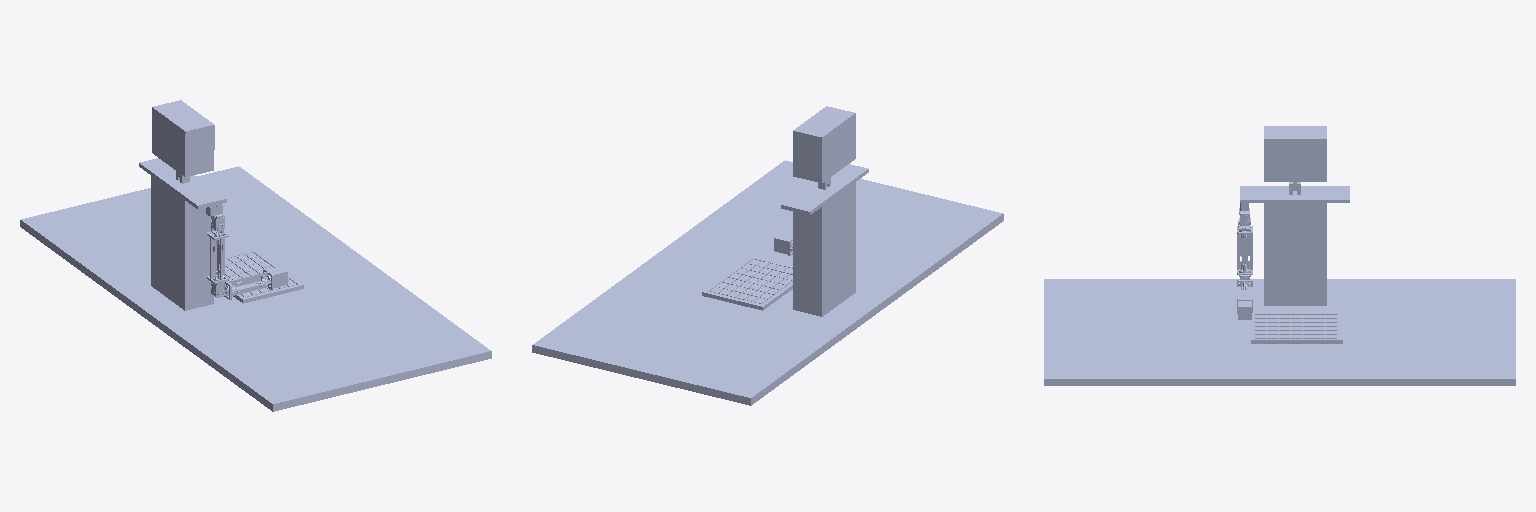
URDF robot description (bexter_combined_urdf):
<?xml version="1.0" encoding="utf-8" ?>
<!-- This URDF was automatically created by SolidWorks to URDF Exporter! Originally created by [author] ([email redacted]) 
     Commit Version: 1.6.0-4-g7f85cfe  Build Version: 1.6.7995.38578
     For more information, please see http://wiki.ros.org/sw_urdf_exporter -->
<robot name="bexter_combined_urdf">
    <link name="base_link">
        <inertial>
            <origin xyz="0.16494 -0.035285 0.069089" rpy="0 0 0" />
            <mass value="41.55" />
            <inertia ixx="5.8669" ixy="4.4082E-09" ixz="-2.3416E-05" iyy="1.5501" iyz="-1.8866E-07" izz="7.1963" />
        </inertial>
        <visual>
            <origin xyz="0 0 0" rpy="0 0 0" />
            <geometry>
                <mesh filename="package://bexter_combined_urdf/meshes/base_link.STL" />
            </geometry>
            <material name="">
                <color rgba="0.79216 0.81961 0.93333 1" />
            </material>
        </visual>
        <collision>
            <origin xyz="0 0 0" rpy="0 0 0" />
            <geometry>
                <mesh filename="package://bexter_combined_urdf/meshes/base_link_collisional.STL" />
            </geometry>
        </collision>
    </link>
    <link name="link_0">
        <inertial>
            <origin xyz="-1.0459E-05 -0.00048941 -0.02765" rpy="0 0 0" />
            <mass value="0.045956" />
            <inertia ixx="1.1423E-05" ixy="5.2331E-09" ixz="4.4082E-09" iyy="1.0126E-05" iyz="-2.555E-07" izz="6.9187E-06" />
        </inertial>
        <visual>
            <origin xyz="0 0 0" rpy="0 0 0" />
            <geometry>
                <mesh filename="package://bexter_combined_urdf/meshes/link_0.STL" />
            </geometry>
            <material name="">
                <color rgba="0.79216 0.81961 0.93333 1" />
            </material>
        </visual>
        <collision>
            <origin xyz="0 0 0" rpy="0 0 0" />
            <geometry>
                <mesh filename="package://bexter_combined_urdf/meshes/link_0_collisional.STL" />
            </geometry>
        </collision>
    </link>
    <joint name="joint_1" type="continuous">
        <origin xyz="0.02685 -0.16355 0.3323" rpy="0 0 0" />
        <parent link="base_link" />
        <child link="link_0" />
        <axis xyz="0 0 1" />
        <limit lower="0" upper="0" effort="1.4" velocity="0.9" />
    </joint>
    <link name="link_1">
        <inertial>
            <origin xyz="-2.3314E-05 -8.5183E-05 -0.1378" rpy="0 0 0" />
            <mass value="0.13469" />
            <inertia ixx="9.9571E-05" ixy="5.2331E-09" ixz="4.4082E-09" iyy="9.7681E-05" iyz="-2.555E-07" izz="3.0079E-05" />
        </inertial>
        <visual>
            <origin xyz="0 0 0" rpy="0 0 0" />
            <geometry>
                <mesh filename="package://bexter_combined_urdf/meshes/link_1.STL" />
            </geometry>
            <material name="">
                <color rgba="0.79216 0.81961 0.93333 1" />
            </material>
        </visual>
        <collision>
            <origin xyz="0 0 0" rpy="0 0 0" />
            <geometry>
                <mesh filename="package://bexter_combined_urdf/meshes/link_1_collisional.STL" />
            </geometry>
        </collision>
    </link>
    <joint name="joint_2" type="continuous">
        <origin xyz="0 0 -0.0405" rpy="0 0 0" />
        <parent link="link_0" />
        <child link="link_1" />
        <axis xyz="0 1 0" />
        <limit lower="0" upper="0" effort="1.4" velocity="0.9" />
    </joint>
    <link name="link_2">
        <inertial>
            <origin xyz="0.10141 2.0575E-06 2.9972E-05" rpy="0 0 0" />
            <mass value="0.088738" />
            <inertia ixx="2.316E-05" ixy="4.0902E-18" ixz="3.3819E-14" iyy="8.7554E-05" iyz="-5.6601E-21" izz="8.8148E-05" />
        </inertial>
        <visual>
            <origin xyz="0 0 0" rpy="0 0 0" />
            <geometry>
                <mesh filename="package://bexter_combined_urdf/meshes/link_2.STL" />
            </geometry>
            <material name="">
                <color rgba="0.79216 0.81961 0.93333 1" />
            </material>
        </visual>
        <collision>
            <origin xyz="0 0 0" rpy="0 0 0" />
            <geometry>
                <mesh filename="package://bexter_combined_urdf/meshes/link_2_collisional.STL" />
            </geometry>
        </collision>
    </link>
    <joint name="joint_3" type="continuous">
        <origin xyz="0 6.2E-05 -0.2209" rpy="0 0 0" />
        <parent link="link_1" />
        <child link="link_2" />
        <axis xyz="0 1 0" />
        <limit lower="0" upper="0" effort="1.4" velocity="0.9" />
    </joint>
    <link name="end_effector">
        <inertial>
            <origin xyz="-0.0254 -0.022225 0.022225" rpy="0 0 0" />
            <mass value="0.10037" />
            <inertia ixx="3.3052E-05" ixy="3.3447E-19" ixz="6.8462E-21" iyy="3.8111E-05" iyz="2.1636E-20" izz="3.8111E-05" />
        </inertial>
        <visual>
            <origin xyz="0 0 0" rpy="0 0 0" />
            <geometry>
                <mesh filename="package://bexter_combined_urdf/meshes/end_effector.STL" />
            </geometry>
            <material name="">
                <color rgba="0.79216 0.81961 0.93333 1" />
            </material>
        </visual>
        <collision>
            <origin xyz="0 0 0" rpy="0 0 0" />
            <geometry>
                <mesh filename="package://bexter_combined_urdf/meshes/end_effector_collisional.STL" />
            </geometry>
        </collision>
    </link>
    <joint name="end_effector_joint" type="fixed">
        <origin xyz="0.2312 0.022225 -0.022194" rpy="0 0 0" />
        <parent link="link_2" />
        <child link="end_effector" />
        <axis xyz="0 0 0" />
    </joint>
    <transmission name="trans_joint_1">
        <type>transmission_interface/SimpleTransmission</type>
        <joint name="joint_1">
            <hardwareInterface>hardware_interface/PositionJointInterface</hardwareInterface>
        </joint>
        <actuator name="joint_1_motor">
            <hardwareInterface>hardware_interface/PositionJointInterface</hardwareInterface>
            <mechanicalReduction>1</mechanicalReduction>
        </actuator>
    </transmission>
    <transmission name="trans_joint_2">
        <type>transmission_interface/SimpleTransmission</type>
        <joint name="joint_2">
            <hardwareInterface>hardware_interface/PositionJointInterface</hardwareInterface>
        </joint>
        <actuator name="joint_2_motor">
            <hardwareInterface>hardware_interface/PositionJointInterface</hardwareInterface>
            <mechanicalReduction>1</mechanicalReduction>
        </actuator>
    </transmission>
    <transmission name="trans_joint_3">
        <type>transmission_interface/SimpleTransmission</type>
        <joint name="joint_3">
            <hardwareInterface>hardware_interface/PositionJointInterface</hardwareInterface>
        </joint>
        <actuator name="joint_3_motor">
            <hardwareInterface>hardware_interface/PositionJointInterface</hardwareInterface>
            <mechanicalReduction>1</mechanicalReduction>
        </actuator>
    </transmission>
    <gazebo>
        <plugin name="gazebo_ros_control" filename="libgazebo_ros_control.so">
            <robotNamespace>/</robotNamespace>
        </plugin>
    </gazebo>
</robot>

--- Facts derived from the render (not from the file) ---
3 views of the same robot in one strip: view 1: azimuth 30°, elevation 25°; view 2: azimuth 150°, elevation 25°; view 3: azimuth 270°, elevation 25° (orthographic).
Robot: bexter_combined_urdf — 5 links, 4 joints (3 continuous, 1 fixed); root link base_link; default pose: all joints at 0.
Links seen in each view (by area): view 1: base_link, link_1, link_2; view 2: base_link; view 3: base_link, link_1.
Link boxes in pixels (x1,y1,x2,y2): base_link: (20,100,491,411); link_1: (207,227,228,297); link_2: (220,269,273,299); base_link: (532,106,1003,405); base_link: (1044,126,1515,385); link_1: (1237,221,1252,283).
Bounding box of the posed robot: 0.762 × 1.52 × 0.6226 m (x, y, z).
Meshes: 5 distinct files referenced, 5 mesh visuals loaded (5 binary STL).
